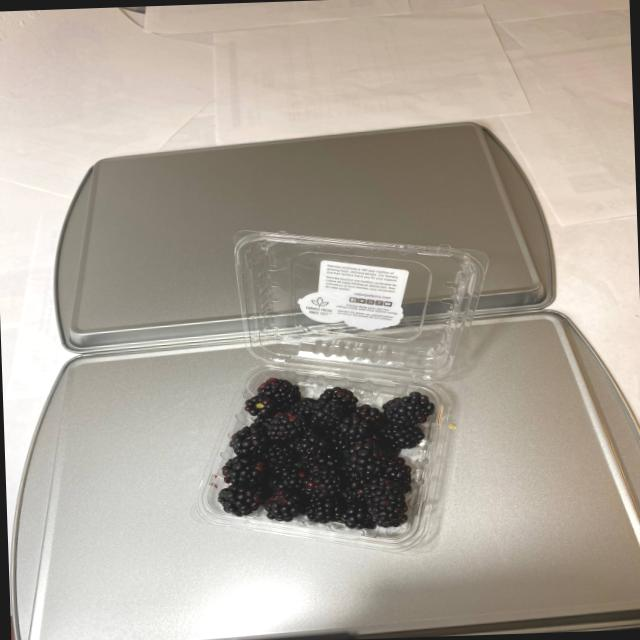blackberries: (212, 366, 452, 518)
